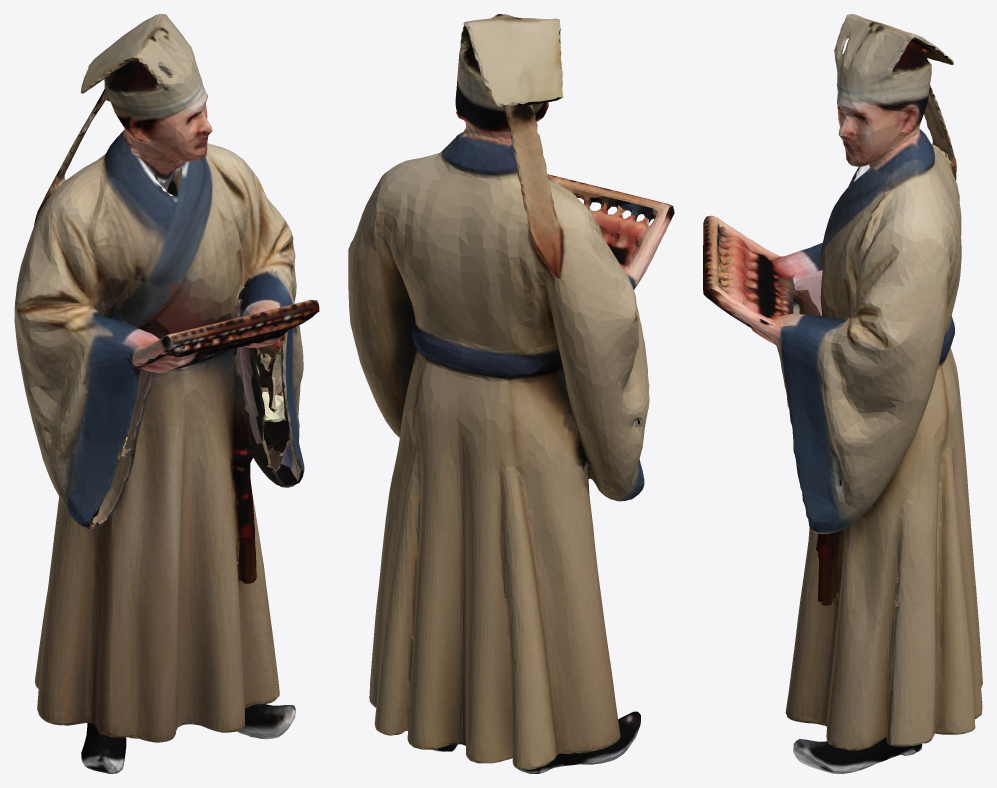
Rendered from mdl_merchant_001.glb.
3 views of the same model, side by side, from view 1: azimuth 30°, elevation 25°; view 2: azimuth 150°, elevation 25°; view 3: azimuth 270°, elevation 25° (orthographic). The views are drawn at different scales.
Visible parts, largest first — view 1: tmp5ngwtzq0.ply; view 2: tmp5ngwtzq0.ply; view 3: tmp5ngwtzq0.ply.
Part boxes in pixels (left/top/right/bottom): tmp5ngwtzq0.ply: left=14, top=14, right=319, bottom=773; tmp5ngwtzq0.ply: left=348, top=14, right=674, bottom=773; tmp5ngwtzq0.ply: left=703, top=14, right=982, bottom=773.
Bounding box in the file's own units: 0.4028 × 0.99 × 0.3566.
1 material, 1 textured.
